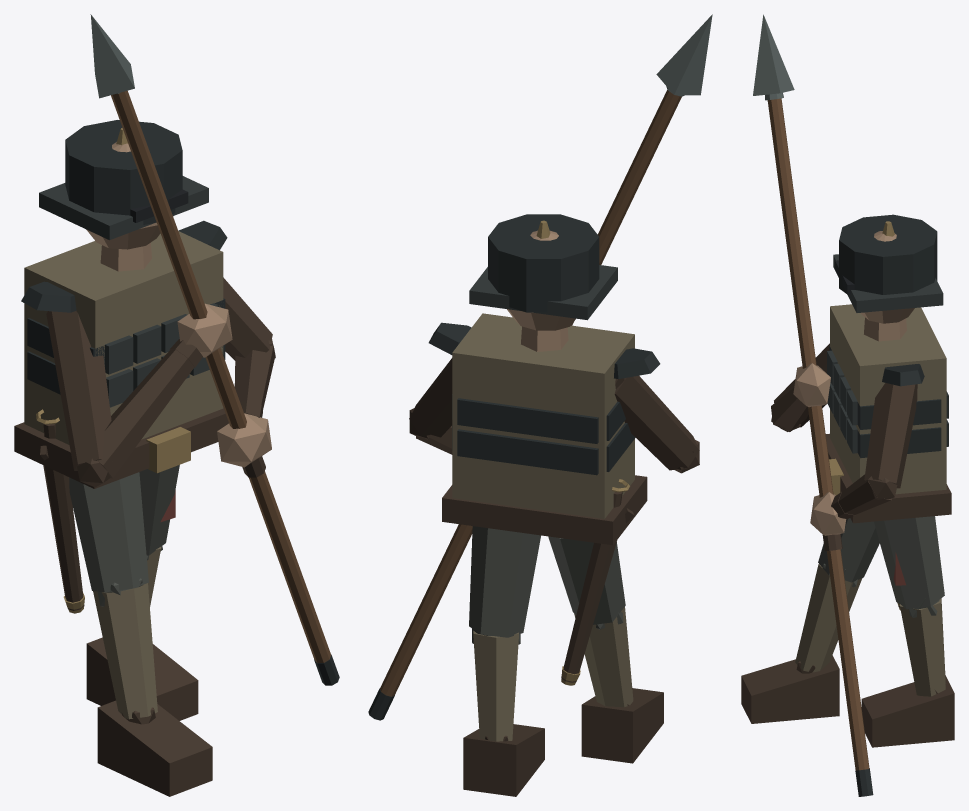
File: chr_f1_spearman_pixel_v003.glb
The picture shows the model from 3 angles, left to right: view 1: azimuth 30°, elevation 25°; view 2: azimuth 150°, elevation 25°; view 3: azimuth 270°, elevation 25°; orthographic projection. The views are drawn at different scales.
Parts seen in each view (by area): view 1: CHR_F1_Spearman_V003_Torso, CHR_F1_Spearman_V003_spear_Shaft, CHR_F1_Spearman_V003_HelmetBowl, CHR_F1_Spearman_V003_LEG_L_Boot, CHR_F1_Spearman_V003_LEG_L_Thigh, CHR_F1_Spearman_V003_ARM_L_Upper, CHR_F1_Spearman_V003_LEG_L_Shin, CHR_F1_Spearman_V003_ARM_L_Forearm, CHR_F1_Spearman_V003_Belt, CHR_F1_Spearman_V003_LEG_R_Boot, CHR_F1_Spearman_V003_HelmetBrim, CHR_F1_Spearman_V003_DETAIL_DaoScabbard (+18 smaller); view 2: CHR_F1_Spearman_V003_Torso, CHR_F1_Spearman_V003_HelmetBowl, CHR_F1_Spearman_V003_LEG_R_Thigh, CHR_F1_Spearman_V003_spear_Shaft, CHR_F1_Spearman_V003_Belt, CHR_F1_Spearman_V003_LEG_L_Boot, CHR_F1_Spearman_V003_LEG_R_Boot, CHR_F1_Spearman_V003_LEG_R_Shin, CHR_F1_Spearman_V003_ARM_L_Upper, CHR_F1_Spearman_V003_DETAIL_ArmorTier_1_Back, CHR_F1_Spearman_V003_DETAIL_ArmorTier_2_Back, CHR_F1_Spearman_V003_LEG_L_Shin (+10 smaller); view 3: CHR_F1_Spearman_V003_Torso, CHR_F1_Spearman_V003_spear_Shaft, CHR_F1_Spearman_V003_HelmetBowl, CHR_F1_Spearman_V003_LEG_L_Boot, CHR_F1_Spearman_V003_LEG_R_Boot, CHR_F1_Spearman_V003_LEG_R_Thigh, CHR_F1_Spearman_V003_ARM_R_Upper, CHR_F1_Spearman_V003_LEG_R_Shin, CHR_F1_Spearman_V003_LEG_L_Shin, CHR_F1_Spearman_V003_Belt, CHR_F1_Spearman_V003_LEG_L_Thigh, CHR_F1_Spearman_V003_HelmetBrim (+13 smaller).
Part boxes in pixels (x1=…): CHR_F1_Spearman_V003_Torso: x1=24, y1=231, x2=223, y2=444; CHR_F1_Spearman_V003_spear_Shaft: x1=111, y1=90, x2=330, y2=662; CHR_F1_Spearman_V003_HelmetBowl: x1=65, y1=120, x2=182, y2=224; CHR_F1_Spearman_V003_LEG_L_Boot: x1=97, y1=700, x2=212, y2=796; CHR_F1_Spearman_V003_LEG_L_Thigh: x1=69, y1=472, x2=148, y2=592; CHR_F1_Spearman_V003_ARM_L_Upper: x1=46, y1=311, x2=111, y2=470; CHR_F1_Spearman_V003_LEG_L_Shin: x1=93, y1=583, x2=157, y2=719; CHR_F1_Spearman_V003_ARM_L_Forearm: x1=97, y1=349, x2=194, y2=478; CHR_F1_Spearman_V003_Belt: x1=14, y1=408, x2=228, y2=488; CHR_F1_Spearman_V003_LEG_R_Boot: x1=86, y1=637, x2=198, y2=720; CHR_F1_Spearman_V003_HelmetBrim: x1=39, y1=176, x2=208, y2=240; CHR_F1_Spearman_V003_DETAIL_DaoScabbard: x1=43, y1=465, x2=84, y2=610; CHR_F1_Spearman_V003_Torso: x1=452, y1=313, x2=634, y2=518; CHR_F1_Spearman_V003_HelmetBowl: x1=488, y1=214, x2=599, y2=312; CHR_F1_Spearman_V003_LEG_R_Thigh: x1=469, y1=526, x2=540, y2=637; CHR_F1_Spearman_V003_spear_Shaft: x1=380, y1=90, x2=681, y2=696; CHR_F1_Spearman_V003_Belt: x1=442, y1=475, x2=647, y2=545; CHR_F1_Spearman_V003_LEG_L_Boot: x1=581, y1=688, x2=663, y2=763; CHR_F1_Spearman_V003_LEG_R_Boot: x1=463, y1=724, x2=544, y2=796; CHR_F1_Spearman_V003_LEG_R_Shin: x1=473, y1=630, x2=518, y2=741; CHR_F1_Spearman_V003_ARM_L_Upper: x1=614, y1=375, x2=699, y2=470; CHR_F1_Spearman_V003_DETAIL_ArmorTier_1_Back: x1=457, y1=429, x2=598, y2=475; CHR_F1_Spearman_V003_DETAIL_ArmorTier_2_Back: x1=457, y1=398, x2=598, y2=443; CHR_F1_Spearman_V003_LEG_L_Shin: x1=574, y1=607, x2=633, y2=707; CHR_F1_Spearman_V003_Torso: x1=830, y1=304, x2=946, y2=494; CHR_F1_Spearman_V003_spear_Shaft: x1=767, y1=98, x2=869, y2=770; CHR_F1_Spearman_V003_HelmetBowl: x1=839, y1=214, x2=937, y2=294; CHR_F1_Spearman_V003_LEG_L_Boot: x1=741, y1=655, x2=839, y2=723; CHR_F1_Spearman_V003_LEG_R_Boot: x1=861, y1=675, x2=954, y2=747; CHR_F1_Spearman_V003_LEG_R_Thigh: x1=874, y1=516, x2=944, y2=609; CHR_F1_Spearman_V003_ARM_R_Upper: x1=864, y1=383, x2=917, y2=488; CHR_F1_Spearman_V003_LEG_R_Shin: x1=900, y1=598, x2=945, y2=696; CHR_F1_Spearman_V003_LEG_L_Shin: x1=795, y1=564, x2=862, y2=672; CHR_F1_Spearman_V003_Belt: x1=825, y1=433, x2=951, y2=523; CHR_F1_Spearman_V003_LEG_L_Thigh: x1=818, y1=518, x2=879, y2=582; CHR_F1_Spearman_V003_HelmetBrim: x1=833, y1=254, x2=943, y2=312.
Size of the model in its own units: 1.02 by 2.47 by 0.7212.
